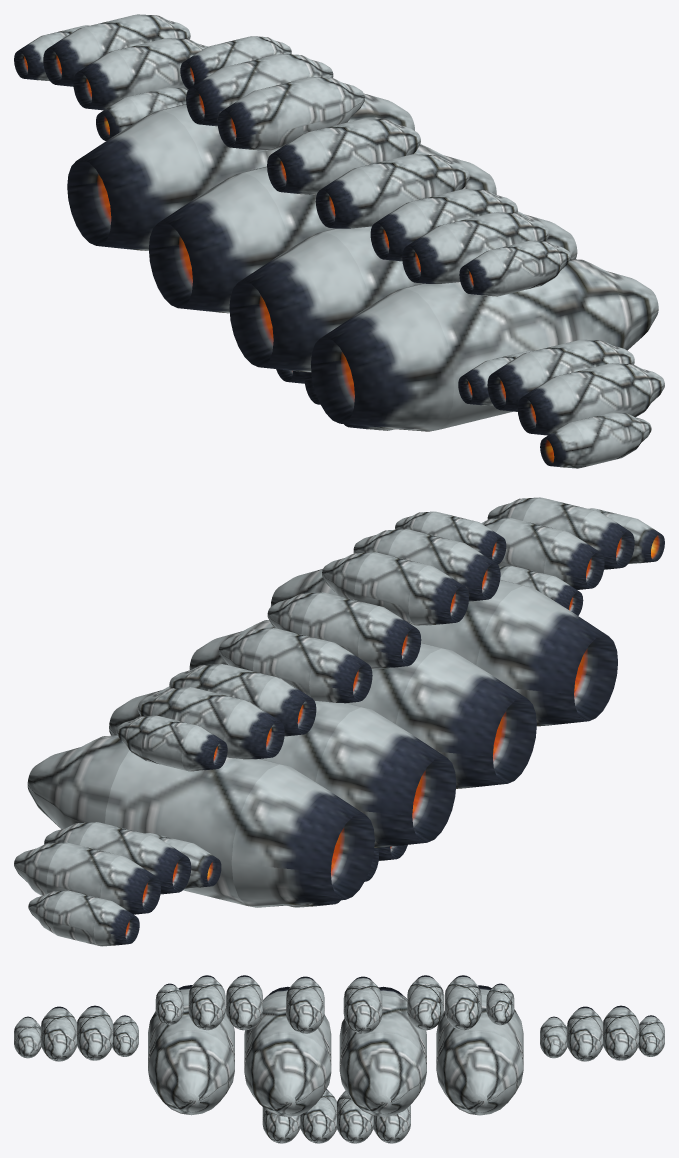
File: Large_G2Engine.obj
3 renders of one model, top to bottom at view 1: azimuth 30°, elevation 25°; view 2: azimuth 150°, elevation 25°; view 3: azimuth 270°, elevation 25°, orthographic. The views are drawn at different scales.
Parts seen in each view (by area): view 1: pCube112 polySurface185, pCube112 polySurface184, pCube112 polySurface150, pCube112 polySurface151, polySurface148 pCube115, pCube112 polySurface152, pCube112 polySurface149, pCube112 polySurface144, pCube114 polySurface147, pCube112 polySurface161, polySurface148 pCube114, pCube115 polySurface147 (+8 smaller); view 2: pCube112 polySurface184, pCube112 polySurface185, pCube112 polySurface151, pCube112 polySurface150, pCube112 polySurface152, polySurface148 pCube114, pCube112 polySurface149, pCube112 polySurface160, pCube115 polySurface147, pCube112 polySurface141, polySurface148 pCube115, pCube114 polySurface147 (+8 smaller); view 3: pCube112 polySurface151, pCube112 polySurface150, pCube112 polySurface184, pCube112 polySurface185, pCube112 polySurface152, pCube112 polySurface149, pCube115 polySurface147, pCube114 polySurface147, polySurface148 pCube114, polySurface148 pCube115, pCube112 polySurface160, pCube112 polySurface141 (+12 smaller).
Boxes of the visible parts, box(x1,y1,x2,y2) form: pCube112 polySurface185: box(311, 259, 658, 431); pCube112 polySurface184: box(67, 93, 414, 250); pCube112 polySurface150: box(229, 211, 577, 372); pCube112 polySurface151: box(148, 144, 496, 313); polySurface148 pCube115: box(217, 77, 364, 150); pCube112 polySurface152: box(267, 118, 420, 195); pCube112 polySurface149: box(315, 154, 469, 228); pCube112 polySurface144: box(517, 363, 664, 435); pCube114 polySurface147: box(402, 212, 549, 283); pCube112 polySurface161: box(73, 38, 207, 110); polySurface148 pCube114: box(370, 189, 517, 261); pCube115 polySurface147: box(186, 53, 333, 126); pCube112 polySurface184: box(27, 735, 374, 907); pCube112 polySurface185: box(270, 569, 617, 726); pCube112 polySurface151: box(109, 686, 456, 847); pCube112 polySurface150: box(189, 620, 536, 788); pCube112 polySurface152: box(219, 628, 372, 703); polySurface148 pCube114: box(322, 552, 468, 625); pCube112 polySurface149: box(267, 592, 421, 669); pCube112 polySurface160: box(14, 842, 160, 914); pCube115 polySurface147: box(137, 687, 284, 759); pCube112 polySurface141: box(481, 518, 604, 589); polySurface148 pCube115: box(169, 664, 316, 736); pCube114 polySurface147: box(353, 529, 500, 601); pCube112 polySurface151: box(339, 986, 426, 1116); pCube112 polySurface150: box(244, 986, 331, 1116); pCube112 polySurface184: box(436, 985, 523, 1115); pCube112 polySurface185: box(148, 985, 234, 1115); pCube112 polySurface152: box(343, 976, 382, 1033); pCube112 polySurface149: box(286, 976, 324, 1033); pCube115 polySurface147: box(444, 975, 481, 1030); pCube114 polySurface147: box(188, 975, 225, 1030); polySurface148 pCube114: box(226, 975, 262, 1030); polySurface148 pCube115: box(407, 975, 443, 1030); pCube112 polySurface160: box(603, 1005, 639, 1060); pCube112 polySurface141: box(77, 1005, 113, 1060).
Bounding box in the file's own units: 5.2 × 3.86 × 15.55.
Materials: 1 (1 with a texture image).
